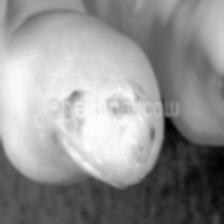Non-Cancerous Skin Condition: (61, 121, 162, 175), (70, 67, 158, 99)
